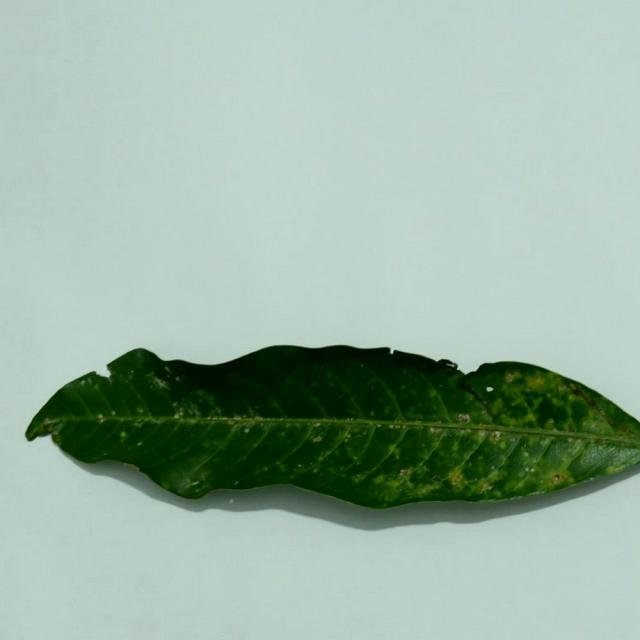Mango: (26, 346, 639, 508)
Powdery_Mildew: (177, 400, 204, 417), (447, 468, 467, 486), (150, 374, 169, 389), (129, 417, 150, 429), (565, 382, 581, 396), (617, 425, 637, 435), (51, 430, 64, 445), (605, 464, 621, 475), (417, 484, 431, 495), (122, 462, 139, 470), (551, 473, 563, 484), (479, 482, 491, 492), (457, 413, 470, 422), (545, 418, 556, 428), (42, 417, 54, 426), (489, 431, 502, 439), (106, 361, 115, 372), (504, 373, 514, 382), (557, 384, 568, 392), (431, 475, 443, 482), (444, 362, 456, 369), (389, 423, 402, 429), (234, 412, 245, 419), (176, 408, 185, 416), (508, 434, 517, 442), (478, 429, 488, 436), (479, 406, 486, 416), (374, 423, 387, 428), (497, 441, 505, 449), (558, 425, 567, 432), (190, 481, 200, 487), (399, 469, 407, 476), (164, 366, 172, 373), (172, 401, 180, 408), (313, 436, 322, 442), (353, 474, 362, 480), (485, 386, 494, 392), (429, 427, 437, 433), (136, 407, 144, 413), (393, 451, 399, 459), (120, 431, 126, 438), (567, 437, 574, 443), (344, 434, 351, 440), (80, 378, 87, 384), (243, 427, 250, 433), (279, 432, 286, 438), (97, 413, 103, 419), (110, 410, 116, 416), (129, 369, 135, 375), (314, 422, 321, 427), (347, 417, 355, 421), (523, 451, 529, 456), (524, 467, 530, 472), (313, 467, 319, 472), (137, 441, 143, 446), (297, 463, 303, 468), (370, 410, 375, 416), (234, 480, 239, 485), (490, 465, 495, 470)
